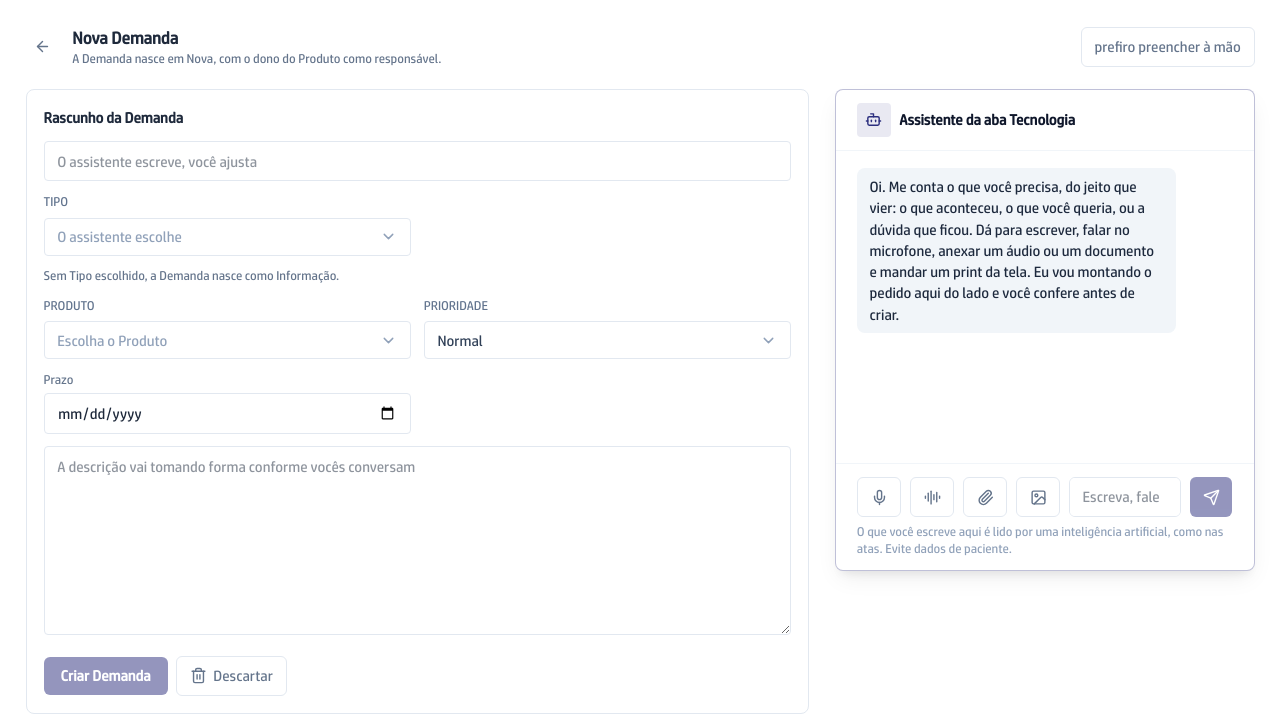
Test case: A lista de Produtos › a lista dentro do contrato chega à escolha de Produto
The width and height of the screenshot is (1280, 720).
Click the dropdown labelled "Produto". click: (112, 340)
box: [44,321,411,359]
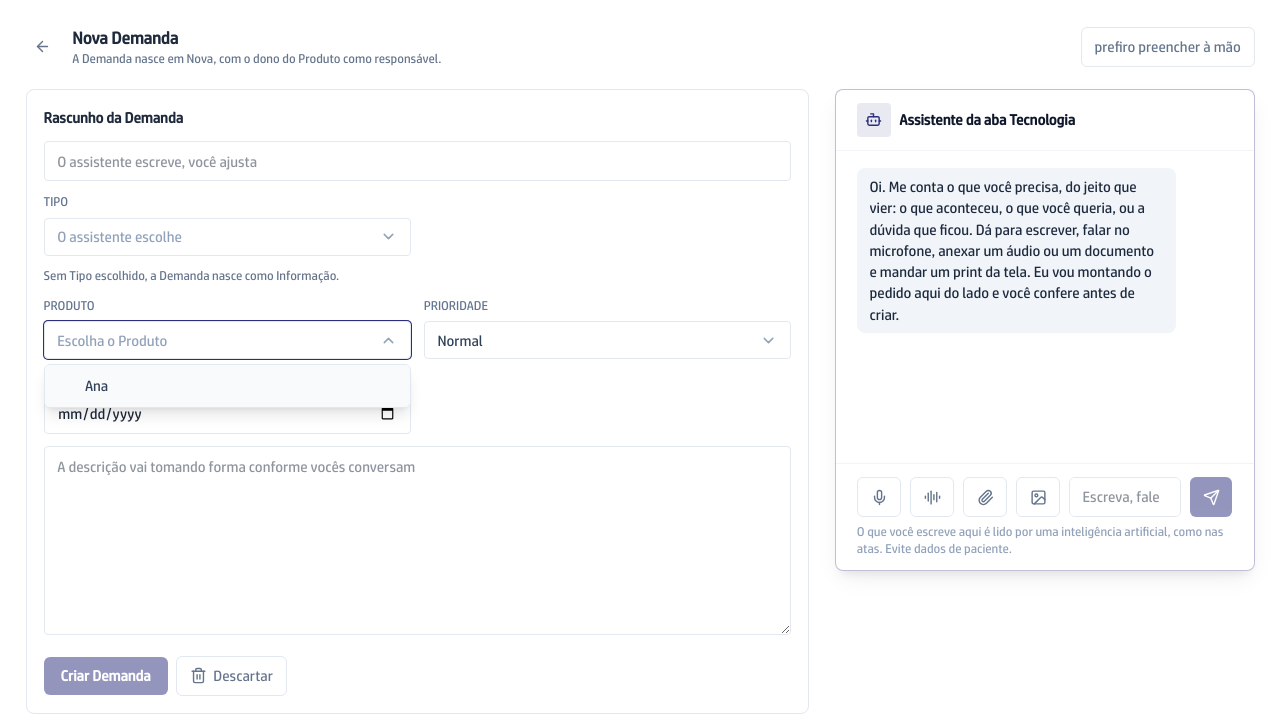
Now the option "Ana" is shown, box [44,365,410,407]
